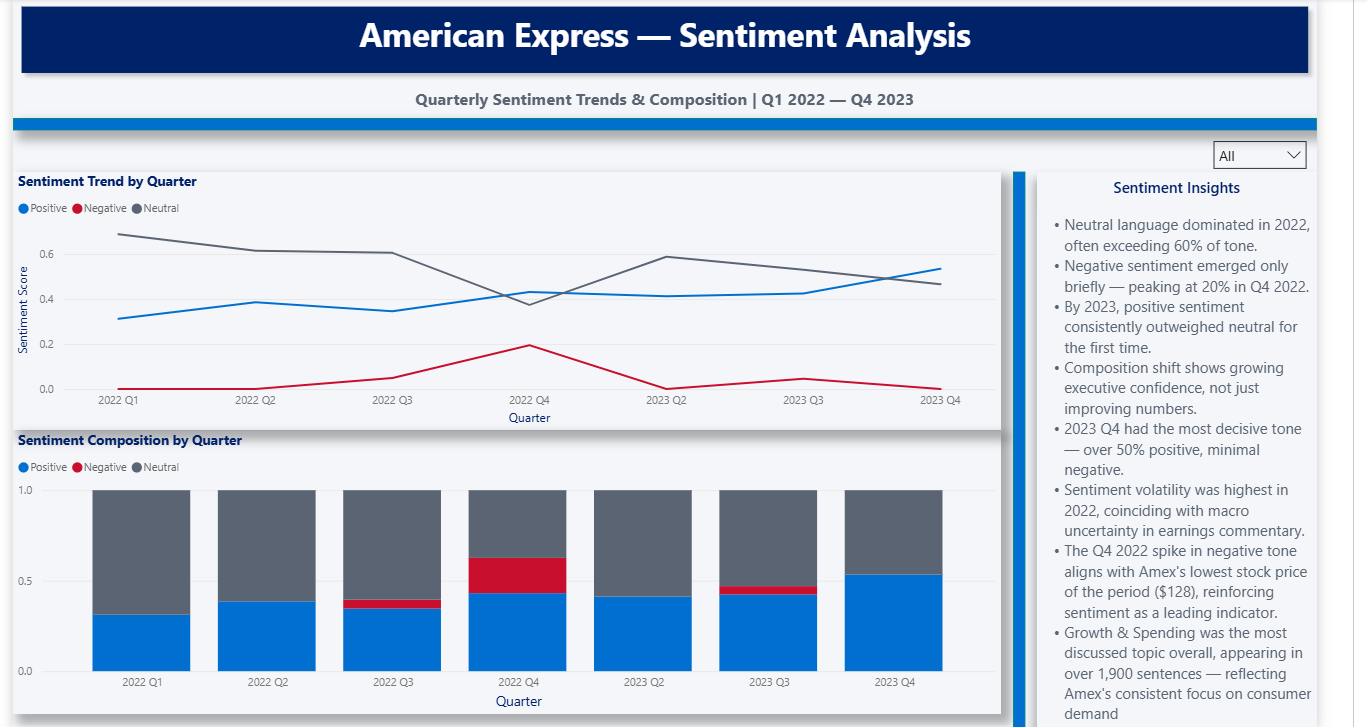

The page's visual inventory and layout, read from the dashboard file:
{"tool":"powerbi","page":{"name":"Sentiment Analysis.","canvas":[1280,720],"ordinal":1},"visuals":[{"type":"shape","box":[0,0,1279.8,82],"z":0},{"type":"textbox","box":[0,8.6,1279.8,63.8],"z":1000},{"type":"textbox","box":[0,82.2,1279.8,35.6],"z":2000},{"type":"shape","box":[0,117.8,1279.8,12.3],"z":3000},{"type":"slicer","fields":{"Values":["amex_sentiment_vs_stock.quarter"]},"box":[1168.1,130.1,111.7,40.5],"z":4000},{"type":"lineChart","title":"Sentiment Trend by Quarter","fields":{"Category":["amex_sentiment_vs_stock.quarter"],"Y":["Avg(amex_sentiment_vs_stock.positive)","Avg(amex_sentiment_vs_stock.negative)","Avg(amex_sentiment_vs_stock.neutral)"]},"box":[0,170.6,969.3,254],"z":5000},{"type":"columnChart","title":"Sentiment Composition by Quarter","fields":{"Y":["Avg(amex_sentiment_vs_stock.positive)","Avg(amex_sentiment_vs_stock.negative)","Avg(amex_sentiment_vs_stock.neutral)"],"Category":["amex_sentiment_vs_stock.quarter"]},"box":[0,424.5,969.3,278.5],"z":6000},{"type":"shape","box":[1004.9,170.6,274.8,549.7],"z":7000},{"type":"shape","box":[981.6,170.6,12.3,549.7],"z":8000},{"type":"textbox","box":[1004.9,170.6,274.8,36.8],"z":9000},{"type":"textbox","box":[1004.9,207.4,274.8,512.9],"z":10000}]}

Visuals, with their boxes on the page's 1280x720 design canvas (x1, y1, x2, y2). These are canvas units, not pixel positions in the 1367x727 screenshot, which may show the page scaled, cropped or inside an application window:
shape: 0, 0, 1280, 82
textbox: 0, 9, 1280, 72
textbox: 0, 82, 1280, 118
shape: 0, 118, 1280, 130
slicer - amex_sentiment_vs_stock.quarter: 1168, 130, 1280, 171
"Sentiment Trend by Quarter" lineChart: 0, 171, 969, 425
"Sentiment Composition by Quarter" columnChart: 0, 424, 969, 703
shape: 1005, 171, 1280, 720
shape: 982, 171, 994, 720
textbox: 1005, 171, 1280, 207
textbox: 1005, 207, 1280, 720
